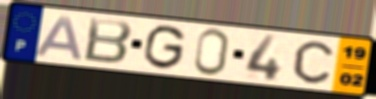0: (193, 26, 231, 78)
4: (242, 33, 286, 83)
A: (32, 14, 85, 62)
B: (81, 16, 135, 66)
C: (292, 39, 335, 85)
G: (141, 24, 189, 72)
